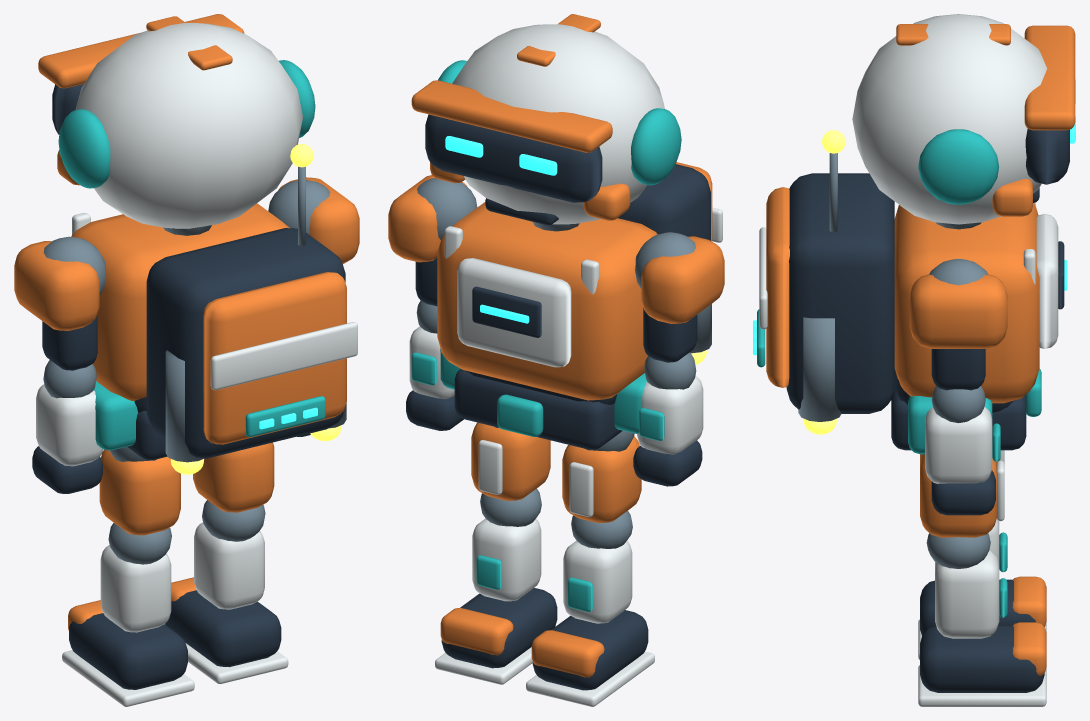
File: courier.glb
3 views of the same model, side by side, from view 1: azimuth 30°, elevation 25°; view 2: azimuth 150°, elevation 25°; view 3: azimuth 270°, elevation 25° (orthographic). The views are drawn at different scales.
Visible parts, largest first — view 1: Courier_Head, Courier_Pack, Courier_Torso, Courier_Shin_L, Courier_Shin_R, Courier_Shoulder_L, Courier_Elbow_L, Courier_Thigh_L, Courier_Shoulder_R, Courier_Thigh_R, Courier_Antenna; view 2: Courier_Torso, Courier_Head, Courier_Shin_L, Courier_Shin_R, Courier_Shoulder_L, Courier_Elbow_L, Courier_Shoulder_R, Courier_Pack, Courier_Thigh_L, Courier_Thigh_R, Courier_Elbow_R; view 3: Courier_Head, Courier_Pack, Courier_Torso, Courier_Shin_R, Courier_Shoulder_R, Courier_Elbow_R, Courier_Shin_L, Courier_Thigh_R, Courier_Antenna.
Boxes of the visible parts, bbox=[...] form: Courier_Head: bbox=[38, 14, 315, 228]; Courier_Pack: bbox=[146, 228, 357, 474]; Courier_Torso: bbox=[71, 203, 289, 459]; Courier_Shin_L: bbox=[62, 523, 194, 706]; Courier_Shin_R: bbox=[164, 500, 288, 683]; Courier_Shoulder_L: bbox=[14, 236, 106, 370]; Courier_Elbow_L: bbox=[32, 360, 102, 493]; Courier_Thigh_L: bbox=[99, 446, 180, 535]; Courier_Shoulder_R: bbox=[268, 177, 359, 263]; Courier_Thigh_R: bbox=[193, 442, 274, 512]; Courier_Antenna: bbox=[290, 144, 313, 245]; Courier_Torso: bbox=[437, 202, 657, 449]; Courier_Head: bbox=[411, 14, 681, 225]; Courier_Shin_L: bbox=[526, 511, 654, 706]; Courier_Shin_R: bbox=[435, 488, 557, 684]; Courier_Shoulder_L: bbox=[635, 232, 724, 362]; Courier_Elbow_L: bbox=[633, 352, 703, 486]; Courier_Shoulder_R: bbox=[388, 175, 477, 306]; Courier_Pack: bbox=[618, 162, 722, 364]; Courier_Thigh_L: bbox=[562, 430, 641, 523]; Courier_Thigh_R: bbox=[471, 422, 550, 500]; Courier_Elbow_R: bbox=[406, 300, 463, 430]; Courier_Head: bbox=[852, 14, 1075, 224]; Courier_Pack: bbox=[753, 173, 894, 434]; Courier_Torso: bbox=[891, 202, 1067, 454]; Courier_Shin_R: bbox=[918, 533, 1046, 706]; Courier_Shoulder_R: bbox=[909, 259, 1007, 390]; Courier_Elbow_R: bbox=[925, 386, 1000, 515]; Courier_Shin_L: bbox=[918, 519, 1046, 659]; Courier_Thigh_R: bbox=[920, 454, 1004, 537]; Courier_Antenna: bbox=[822, 130, 845, 232].
Bounding box in the file's own units: 1.07 × 2.1 × 0.956.
